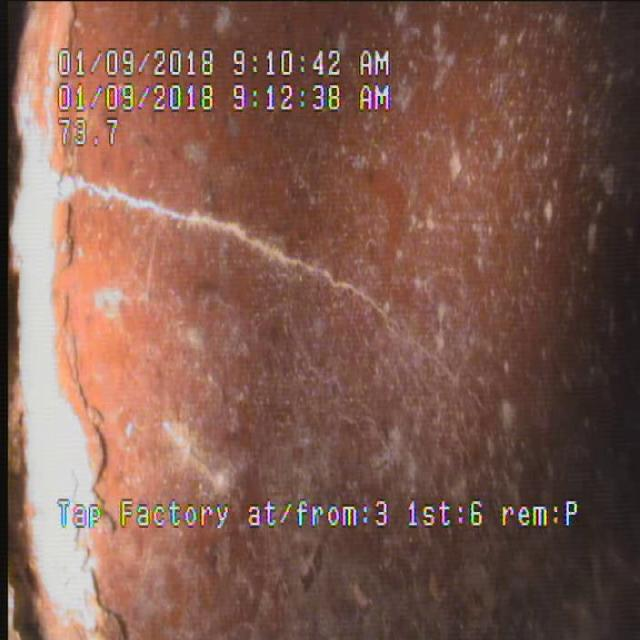Crack: (134, 158, 444, 343)
